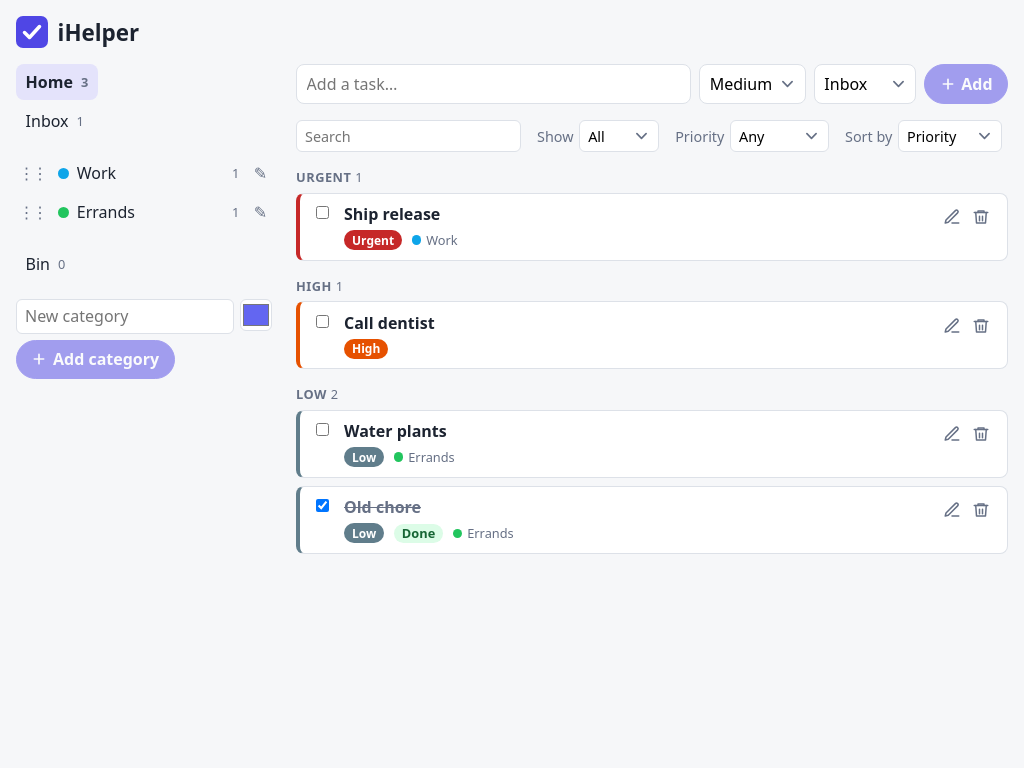
Test: App › deleting a task moves it to the bin, where it can be restored
Check: the button "Call dentist" is shown, box [344, 312, 435, 334]
Click the button named "Delete Call dentist".
click(981, 326)  # box [967, 312, 995, 339]
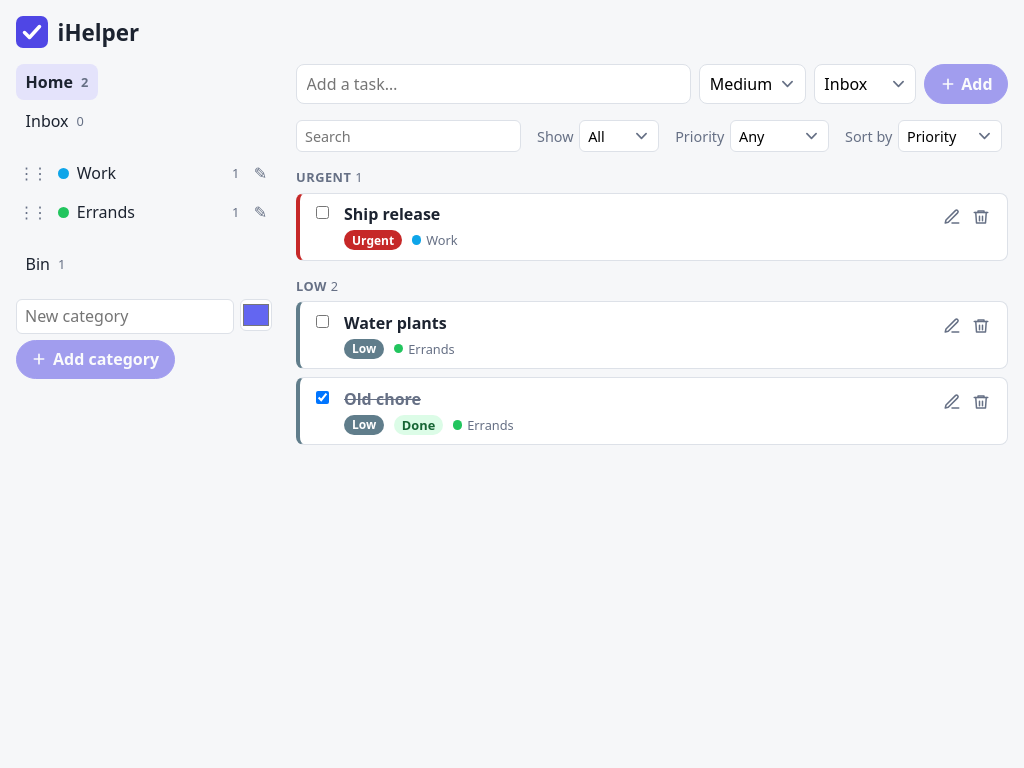
Check: the button "Call dentist" is gone
Click the button "Bin 1".
click(45, 264)  # box [16, 246, 75, 283]
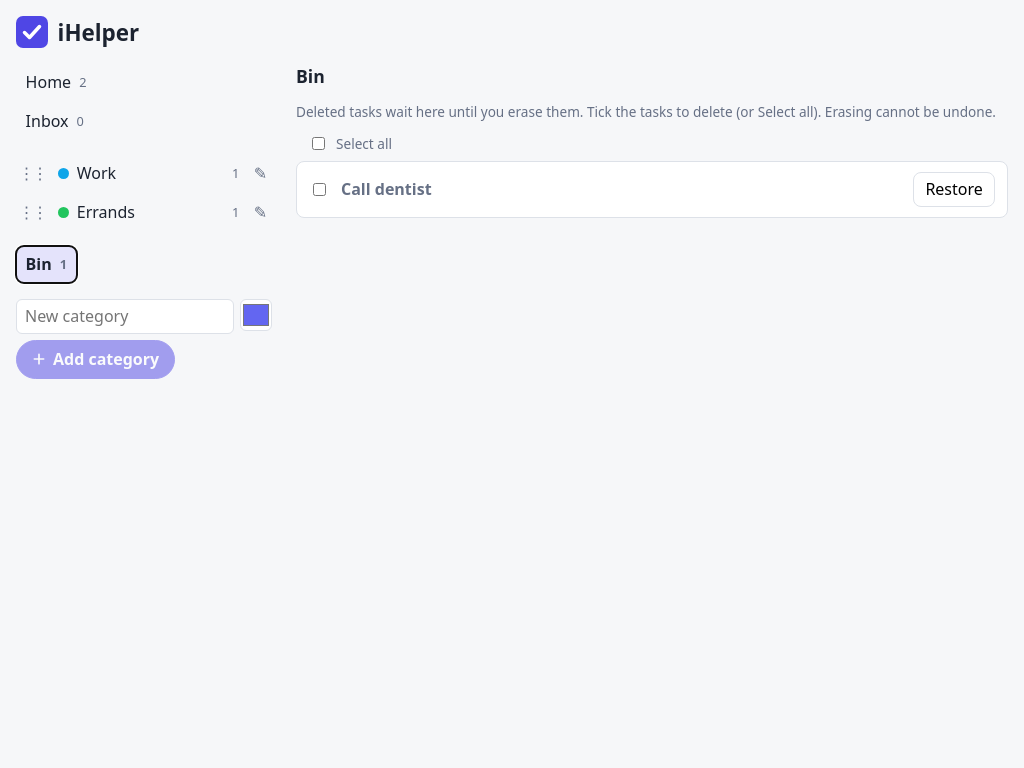
Check: the text "Call dentist" is shown, box [341, 178, 432, 200]
Click the button with aria-label "Restore Call dentist".
click(954, 189)  # box [913, 172, 995, 207]
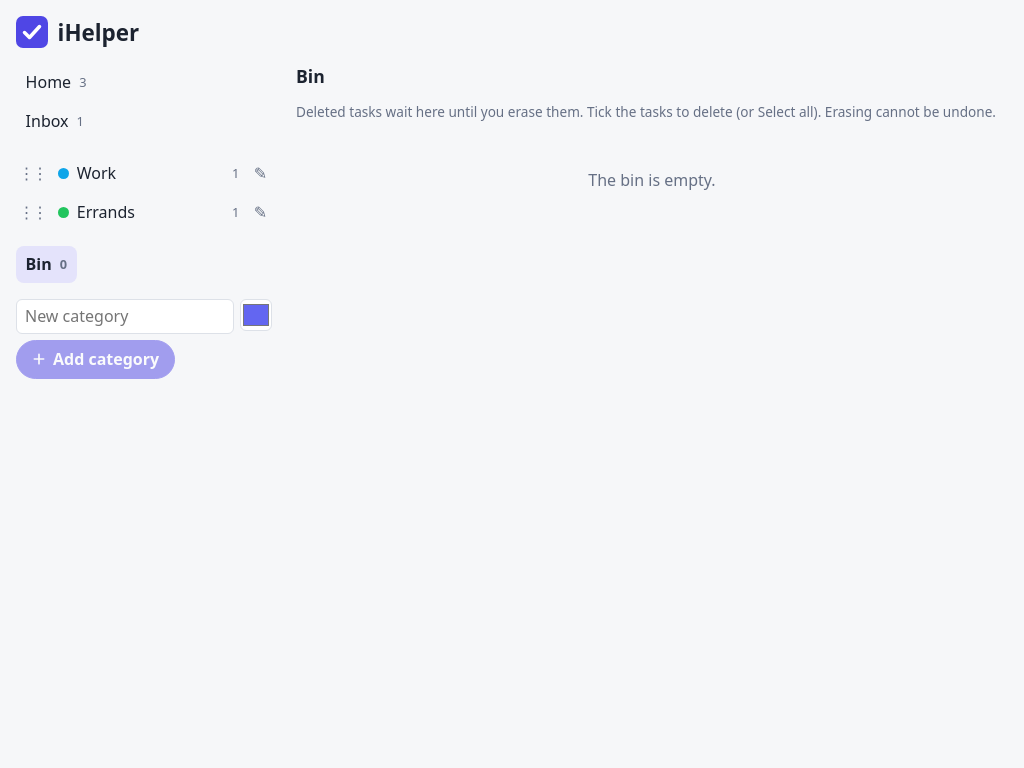
Check: the text "The bin is empty." is shown, box [588, 169, 716, 191]
Click the button "Home 3".
click(56, 82)  # box [16, 64, 96, 100]
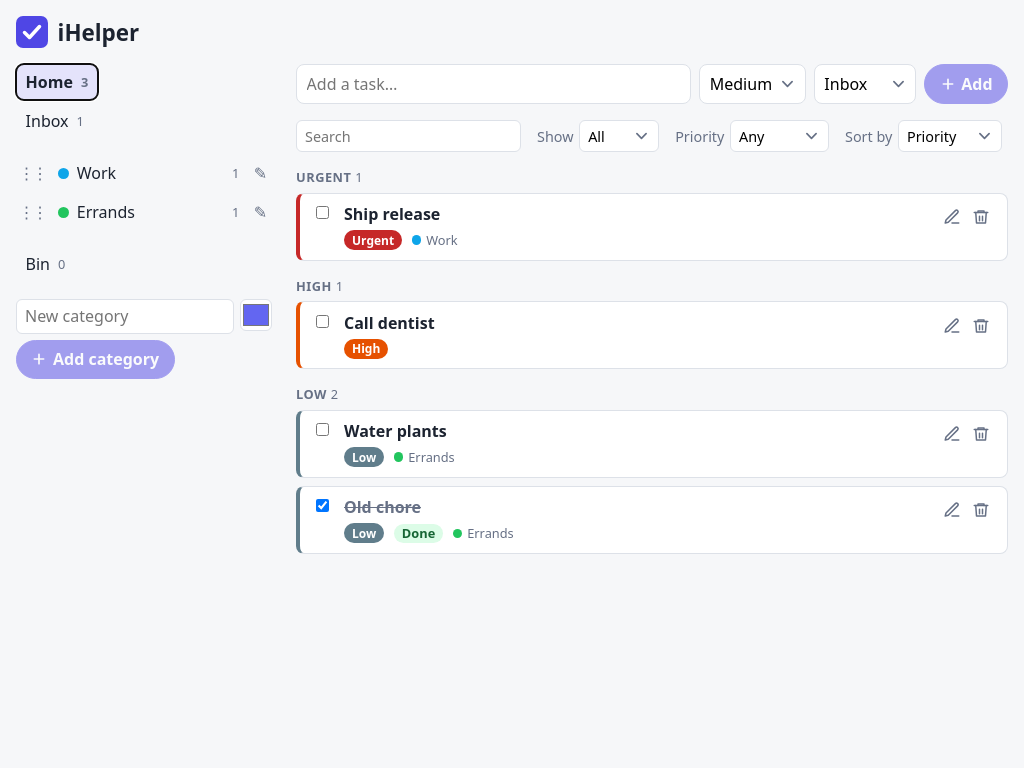
Check: the button "Call dentist" is shown, box [344, 312, 435, 334]
